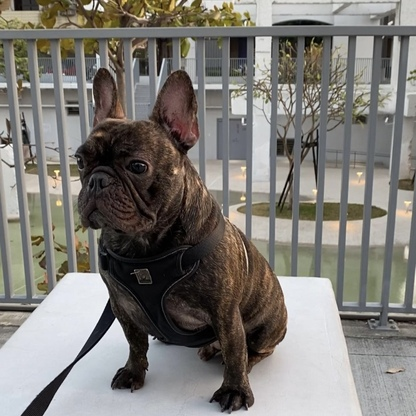bulldog: (73, 66, 291, 416)
